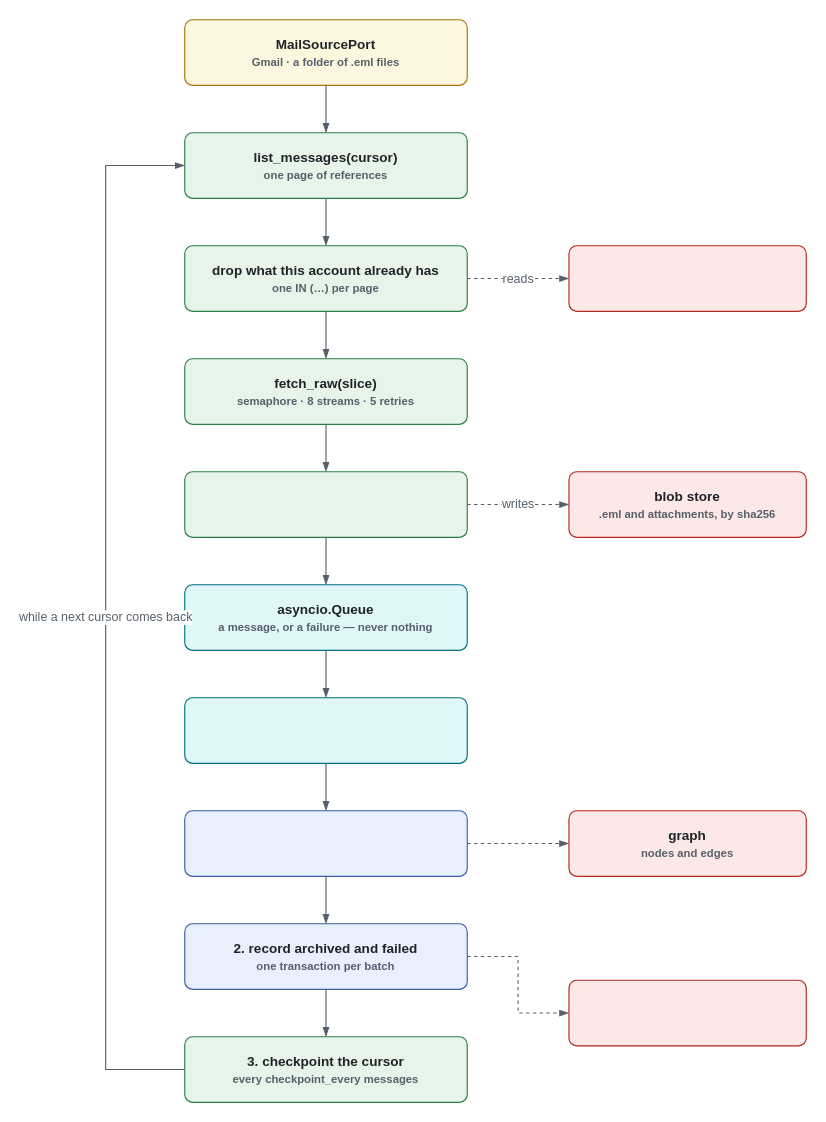
Some shapes in this 826 by 1122 pixel diagram are drawn without their labels. The shapes that lost their labels are listed below. From the top down, each one's centre as x and y in pixels, then its label:
At (687,278): "SQLite mail_archived_messages".
At (325,504): "parse + store the bytes stdlib email, in a thread".
At (325,730): "the one archive consumer buffers up to batch_size".
At (325,843): "1. MessageArchiver graph first, so a crash re-imports".
At (687,1012): "SQLite archived · failed · checkpoint".
